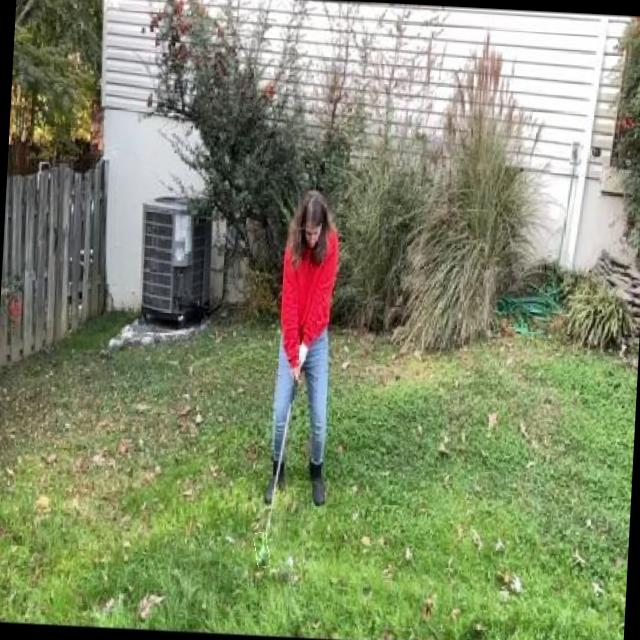club head: (253, 533, 271, 568)
